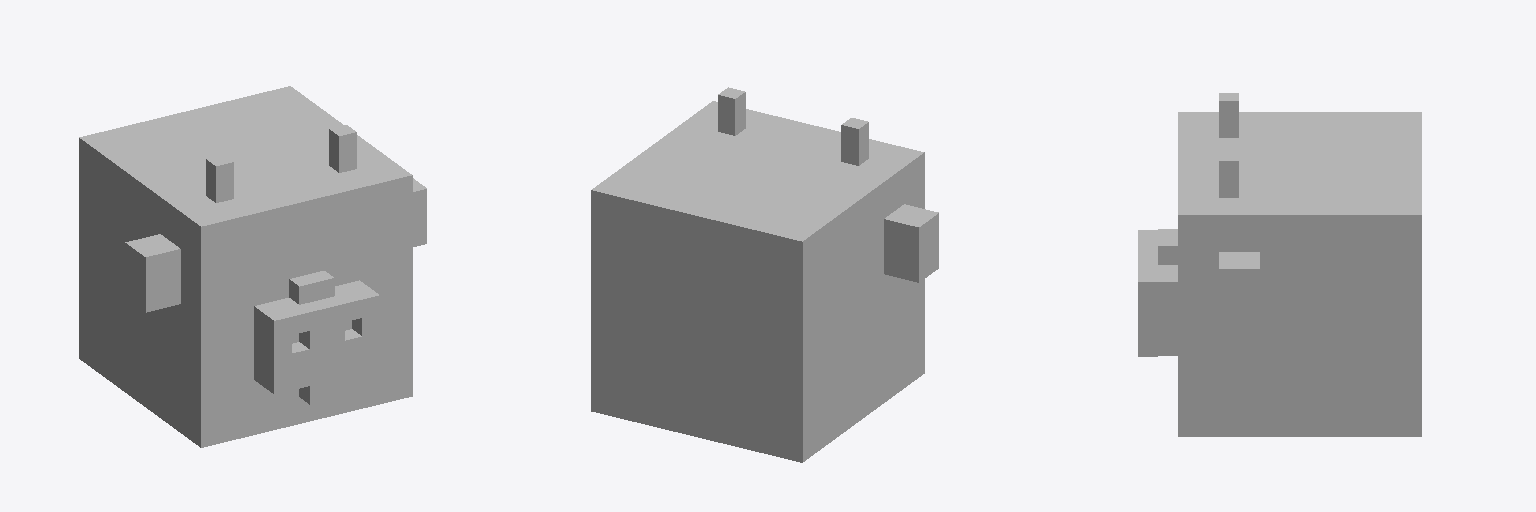
The model's file is sheep.obj.
The picture shows the model from 3 angles: view 1: azimuth 30°, elevation 25°; view 2: azimuth 150°, elevation 25°; view 3: azimuth 270°, elevation 25°; orthographic projection.
Visible parts, largest first — view 1: sheep; view 2: sheep; view 3: sheep.
Part boxes in pixels (x1,y1,x2,y2): sheep: (79,86,426,447); sheep: (591,87,938,462); sheep: (1138,93,1421,436).
Size of the model in its own units: 16 by 14 by 14.